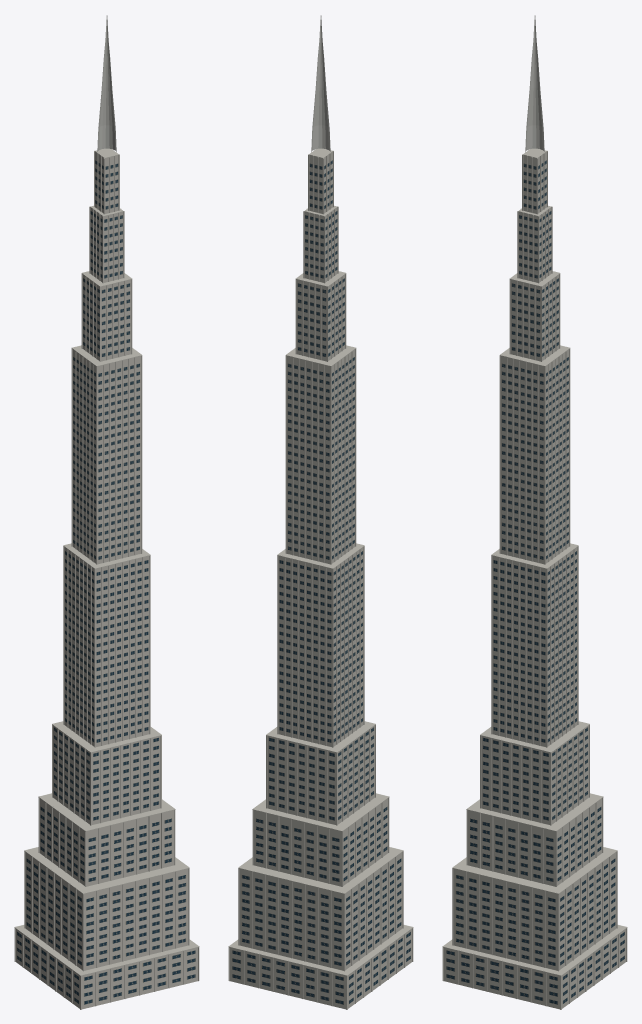
Rendered from empire.glb.
3 views of the same model, side by side, from view 1: azimuth 30°, elevation 25°; view 2: azimuth 150°, elevation 25°; view 3: azimuth 330°, elevation 25° (orthographic).
Visible parts, largest first — view 1: Empire_limestone, Empire_mullioned_glass, Empire_Art_Deco_ribs, Empire_mast; view 2: Empire_limestone, Empire_mullioned_glass, Empire_Art_Deco_ribs, Empire_mast; view 3: Empire_limestone, Empire_mullioned_glass, Empire_Art_Deco_ribs, Empire_mast.
Part boxes in pixels (x1,y1,x2,y2): Empire_limestone: [15, 148, 198, 1009]; Empire_mullioned_glass: [16, 160, 195, 1004]; Empire_Art_Deco_ribs: [14, 150, 199, 1009]; Empire_mast: [97, 15, 116, 151]; Empire_limestone: [229, 148, 412, 1009]; Empire_mullioned_glass: [232, 160, 411, 1004]; Empire_Art_Deco_ribs: [228, 150, 413, 1009]; Empire_mast: [311, 15, 330, 151]; Empire_limestone: [443, 148, 626, 1009]; Empire_mullioned_glass: [446, 160, 625, 1004]; Empire_Art_Deco_ribs: [442, 150, 627, 1009]; Empire_mast: [525, 15, 544, 151].
Bounding box in the file's own units: 57.66 × 443 × 55.66.
Materials: 1 (1 with a texture image).
